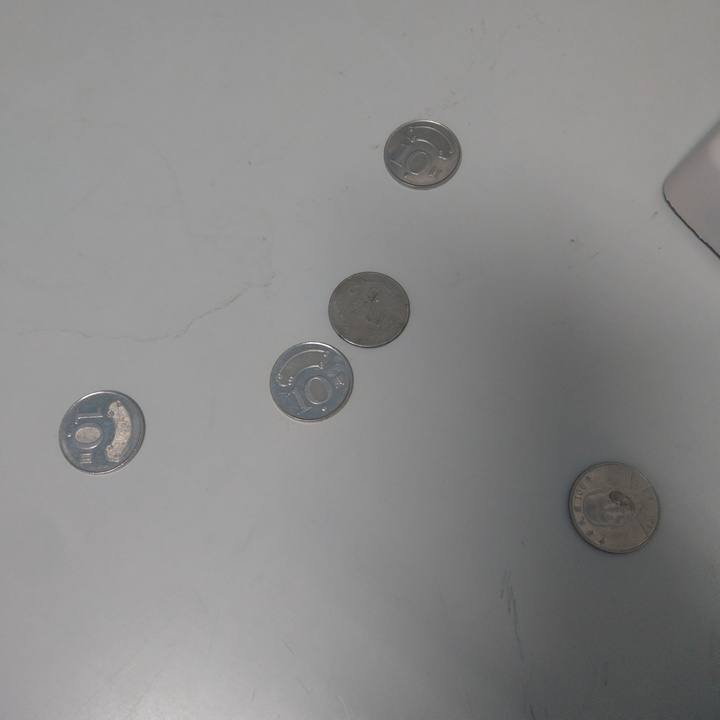10 dollar: (566, 459, 664, 559), (58, 388, 148, 477), (267, 341, 356, 425), (329, 271, 412, 351), (384, 119, 465, 194)
